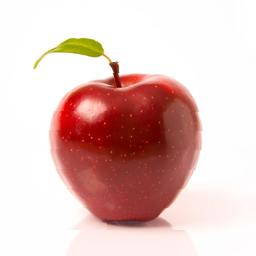Apple Fresh: (48, 63, 222, 231)
